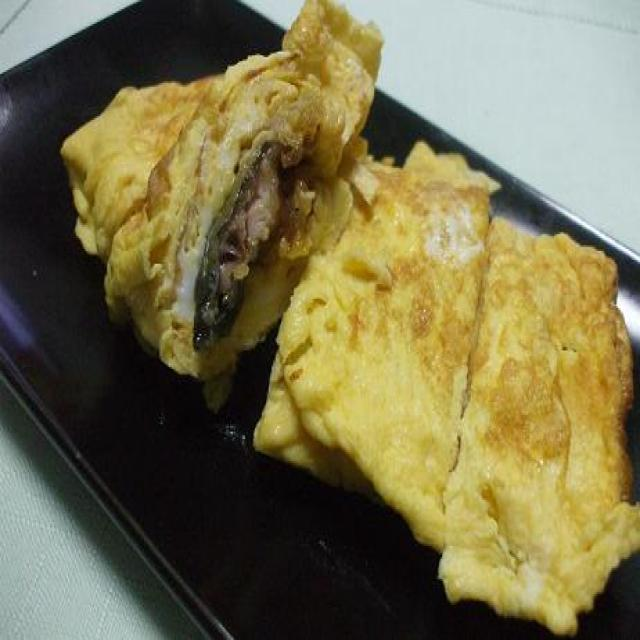鸡蛋料理: (45, 0, 640, 640)
